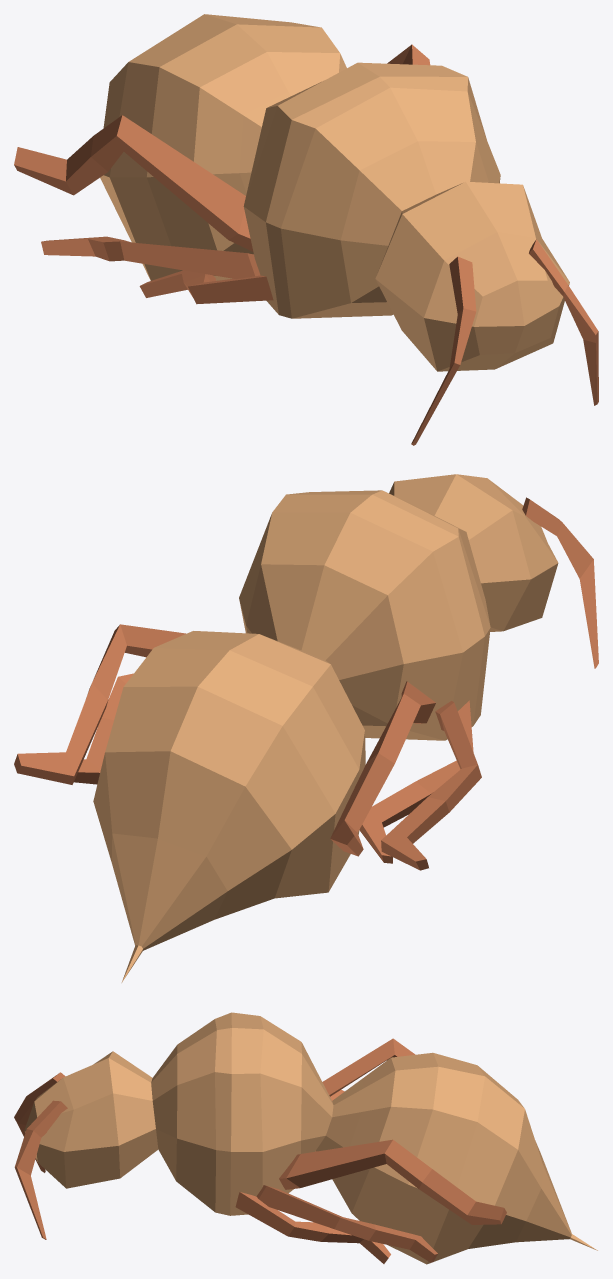
File: BeeLarva.fbx
3 renders of one model, top to bottom at view 1: azimuth 30°, elevation 25°; view 2: azimuth 150°, elevation 25°; view 3: azimuth 270°, elevation 25°, orthographic. The views are drawn at different scales.
Visible parts, largest first — view 1: Cube.001; view 2: Cube.001; view 3: Cube.001.
Part boxes in pixels (x1=…): Cube.001: x1=14, y1=14, x2=598, y2=445; Cube.001: x1=14, y1=474, x2=598, y2=982; Cube.001: x1=14, y1=1012, x2=597, y2=1264.
Bounding box in the file's own units: 378 × 285 × 677.
